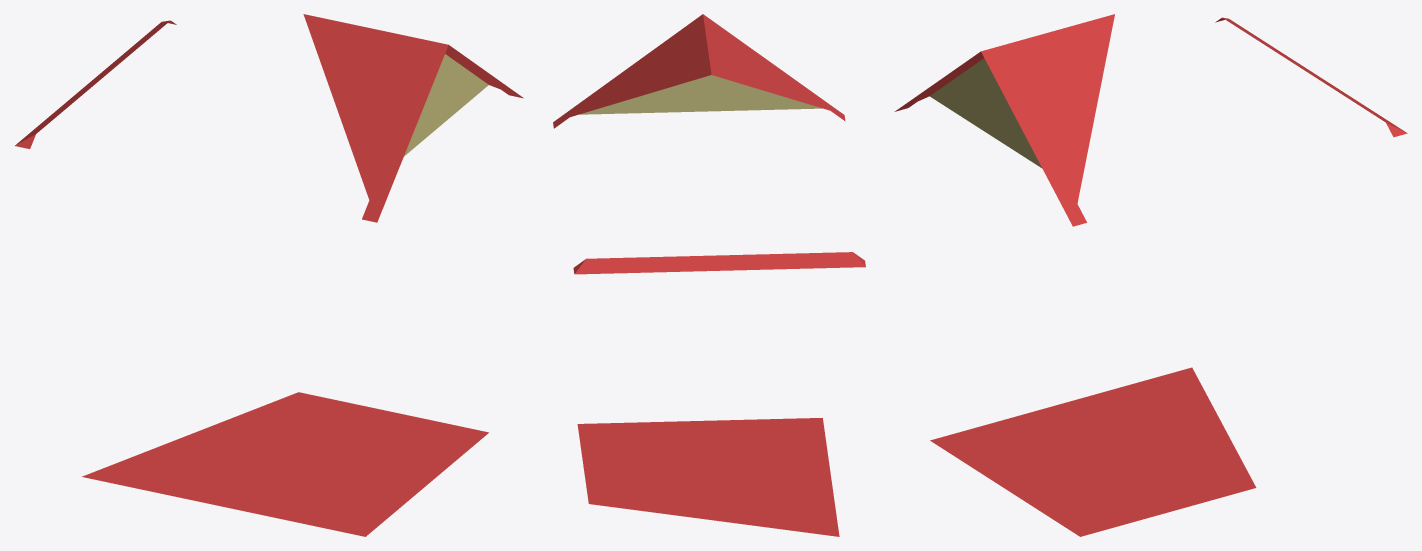
3 views of the same model, side by side, from view 1: azimuth 30°, elevation 25°; view 2: azimuth 150°, elevation 25°; view 3: azimuth 270°, elevation 25° (orthographic). The views are drawn at different scales.
Bounding box in the file's own units: 14.3 × 14.93 × 14.16.
